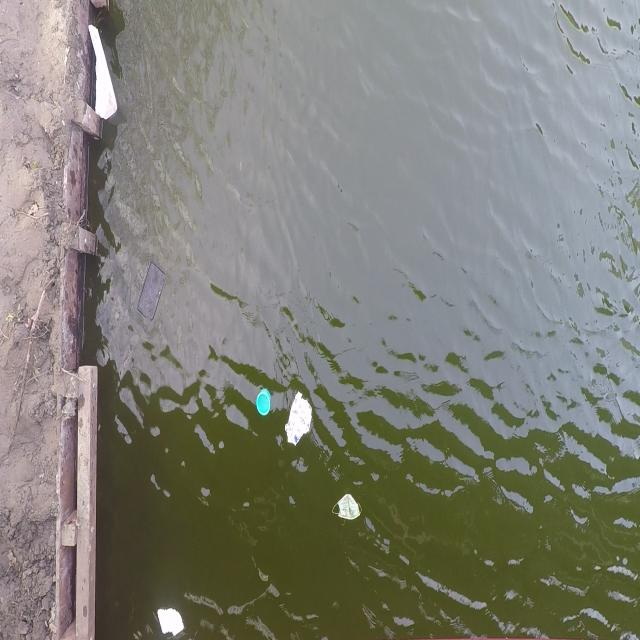Autre plastique: (131, 253, 170, 330), (254, 386, 274, 421)
Non plastique: (329, 492, 368, 528)
